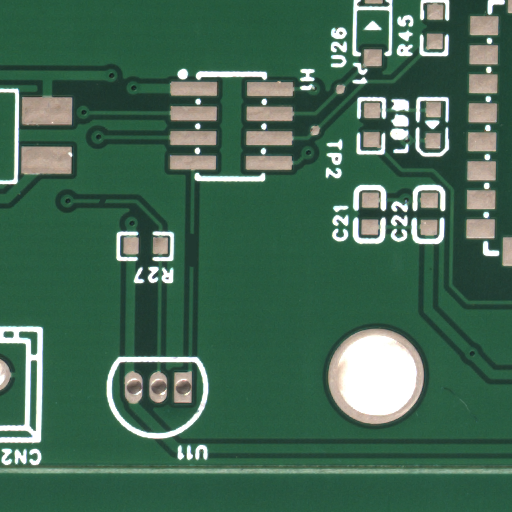Open_circuit: (190, 250, 197, 283), (103, 198, 110, 207)
